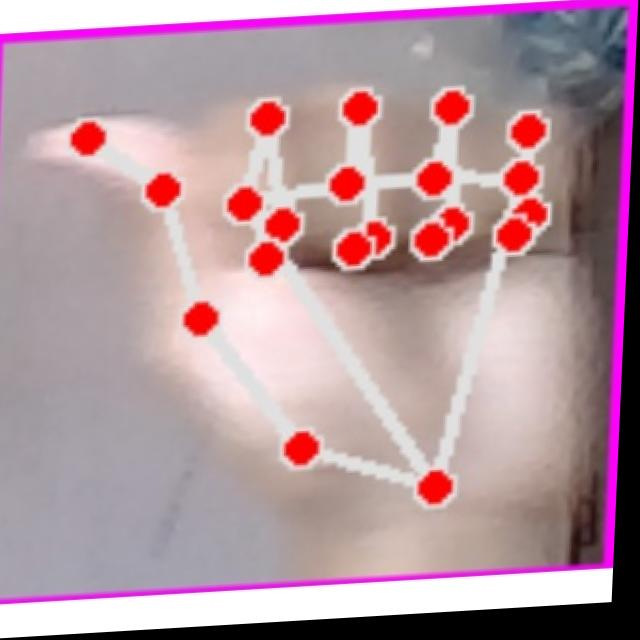A: (0, 47, 617, 569)
